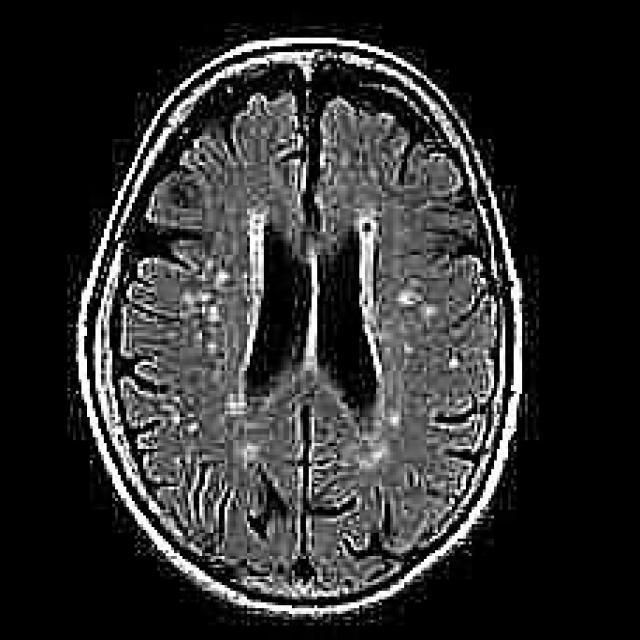notumor: (79, 38, 522, 620)
